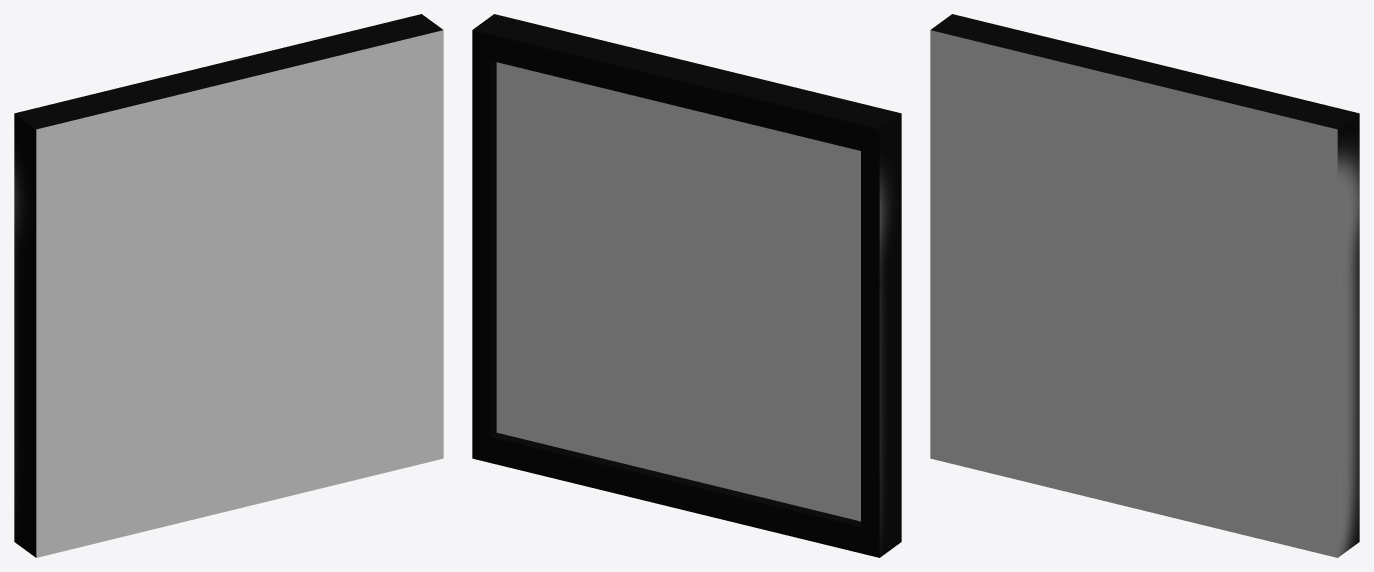
Rendered from MicrowaveDoor.fbx.
The picture shows the model from 3 angles, left to right: view 1: azimuth 30°, elevation 25°; view 2: azimuth 150°, elevation 25°; view 3: azimuth 330°, elevation 25°; orthographic projection.
Visible parts, largest first — view 1: OvenDoor; view 2: OvenDoor; view 3: OvenDoor.
Boxes of the visible parts, bbox=[...] form: OvenDoor: bbox=[14, 14, 443, 557]; OvenDoor: bbox=[472, 14, 901, 557]; OvenDoor: bbox=[930, 14, 1359, 557].
Bounding box in the file's own units: 28.69 × 2.68 × 28.83.
2 materials, 1 textured.
